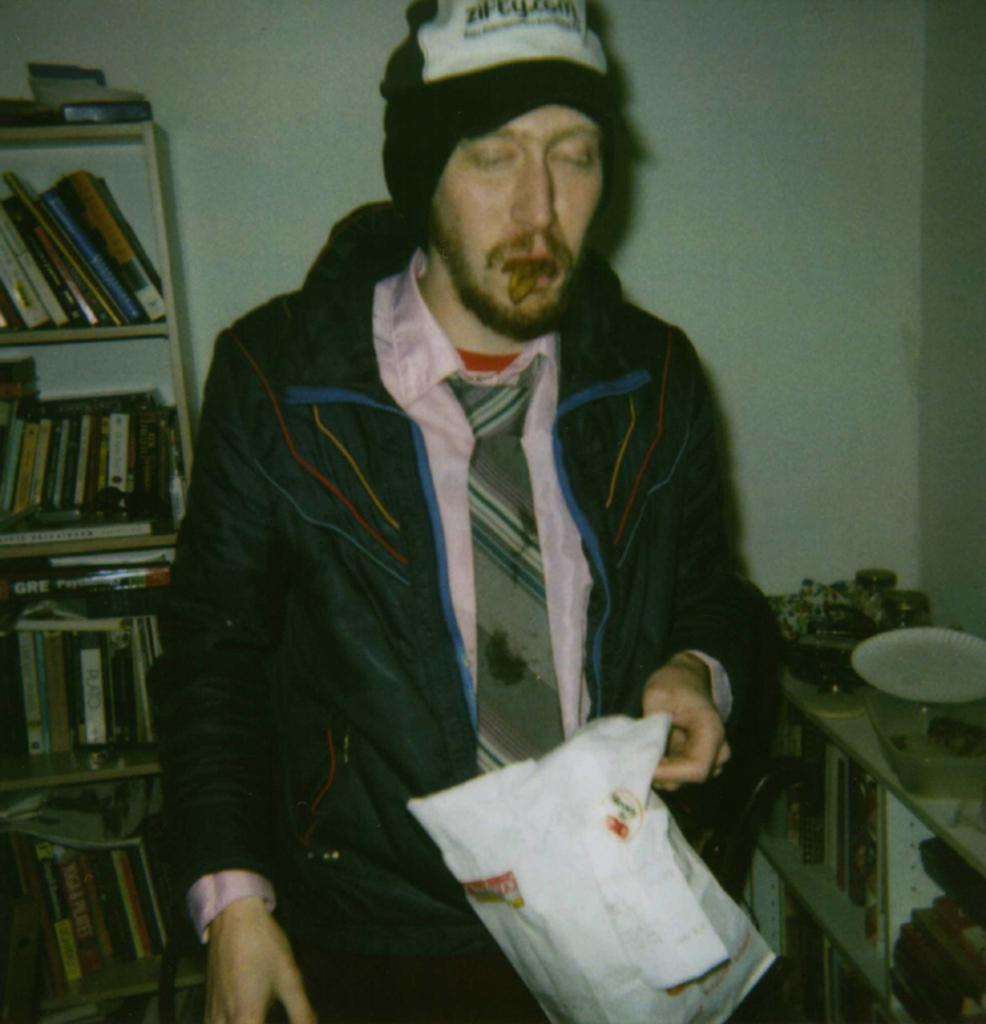Hat: (380, 0, 613, 140)
